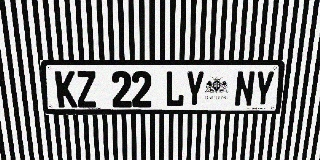2: (111, 71, 132, 107), (132, 71, 151, 107)
K: (55, 71, 77, 107)
L: (165, 71, 185, 107)
N: (234, 71, 255, 107)
Y: (253, 71, 275, 107), (185, 71, 205, 107)
Z: (75, 71, 97, 107)
